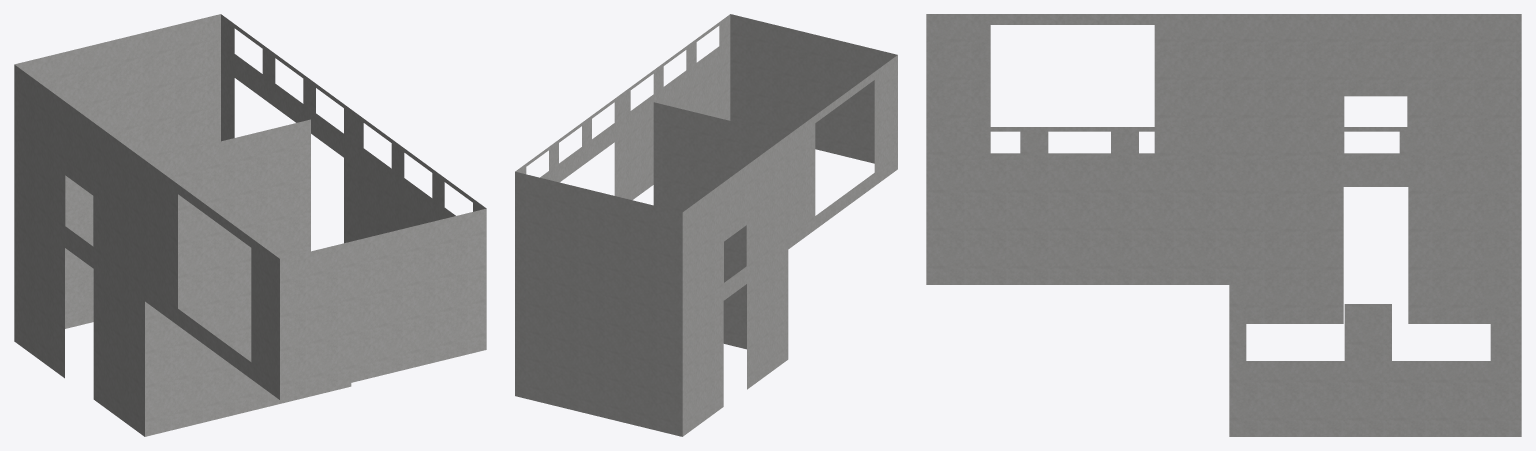
Rendered from 20251120_Building03_new inside wall.fbx.
3 views of the same model, side by side, from view 1: azimuth 30°, elevation 25°; view 2: azimuth 150°, elevation 25°; view 3: azimuth 270°, elevation 25° (orthographic). The views are drawn at different scales.
Parts seen in each view (by area): view 1: interior; view 2: interior; view 3: interior.
Part boxes in pixels (box(x1,y1,x2,y2)): interior: box(14, 14, 486, 436); interior: box(515, 14, 897, 436); interior: box(926, 14, 1521, 436).
Size of the model in its own units: 153 by 341 by 196.
Materials: 1 (1 with a texture image).
